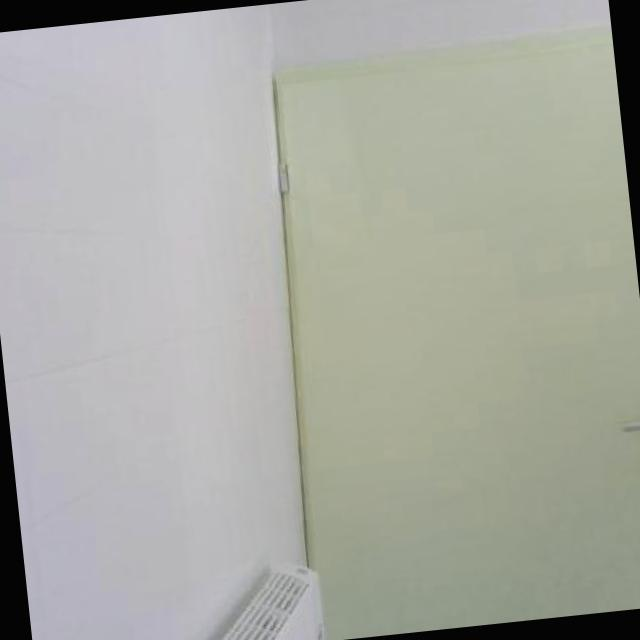door: (251, 22, 640, 640)
